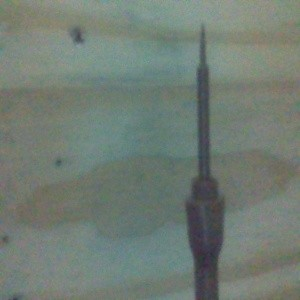solder: (184, 22, 226, 300)
